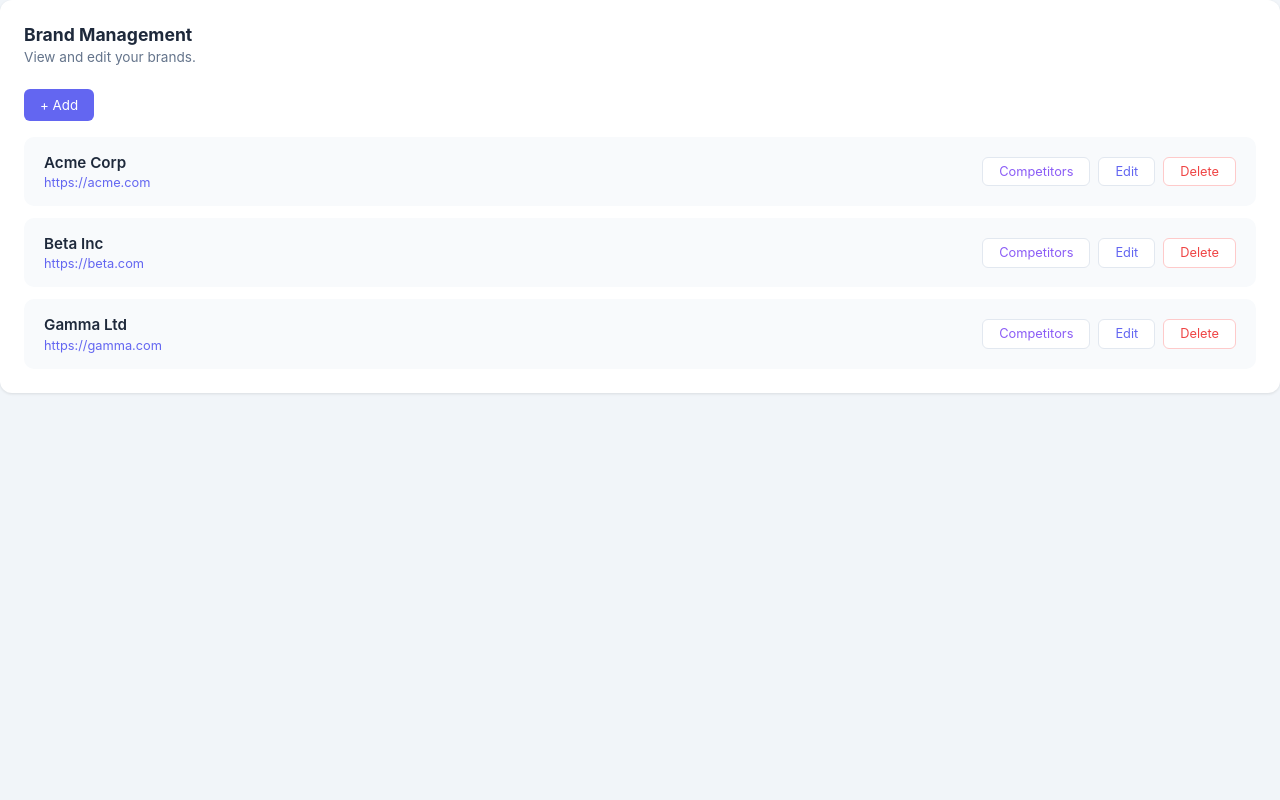
BrandManagement — Brand CRUD › opens edit dialog and pre-fills fields
The width and height of the screenshot is (1280, 800).
Expected: the text "Acme Corp" is shown, [44,153,126,172]
Step 1. Click the button "Edit" in the row of "https://acme.com" → (1127, 172), box [1098,157,1155,186]
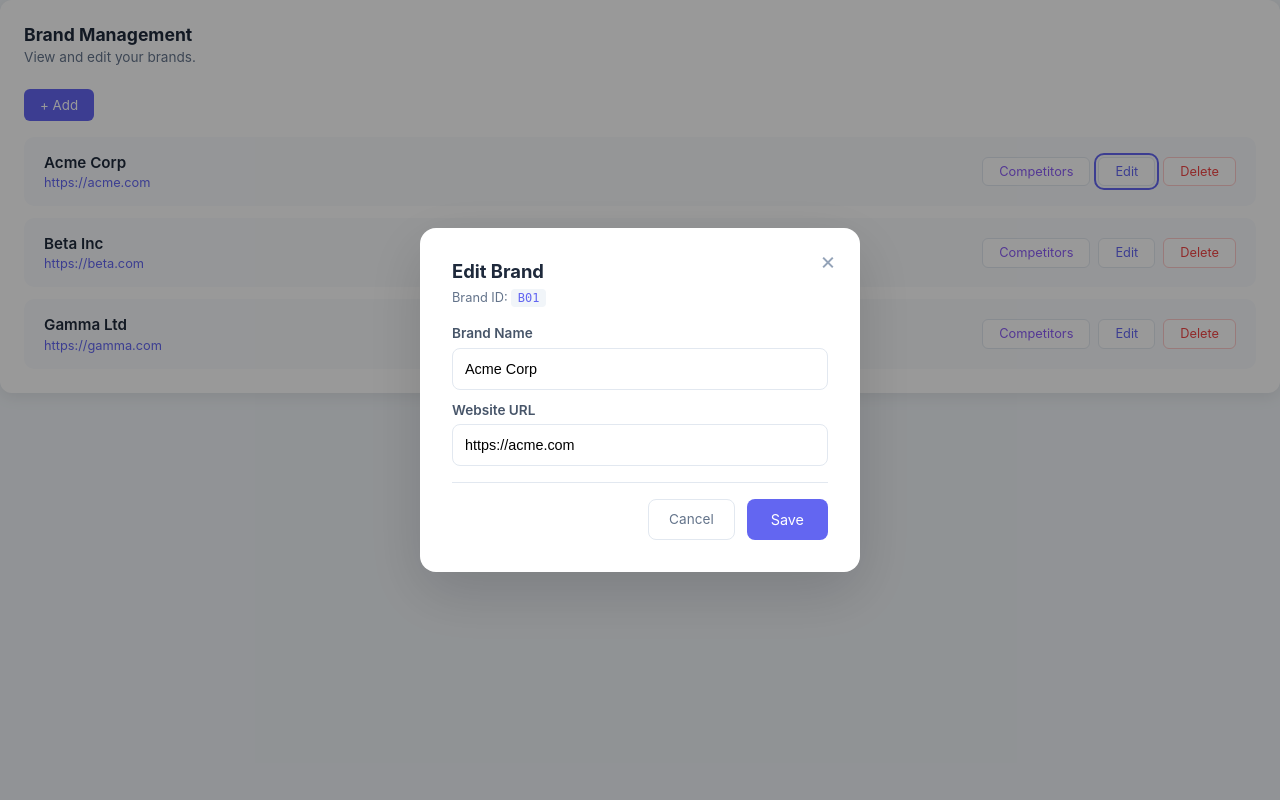
Result: the heading "Edit Brand" is shown at [452,260,544,282]
Result: the 1st field with placeholder "Brand name" holds "Acme Corp" at [452,348,828,390]
Result: the 2nd field with placeholder "https://" holds "https://acme.com" at [452,424,828,466]
